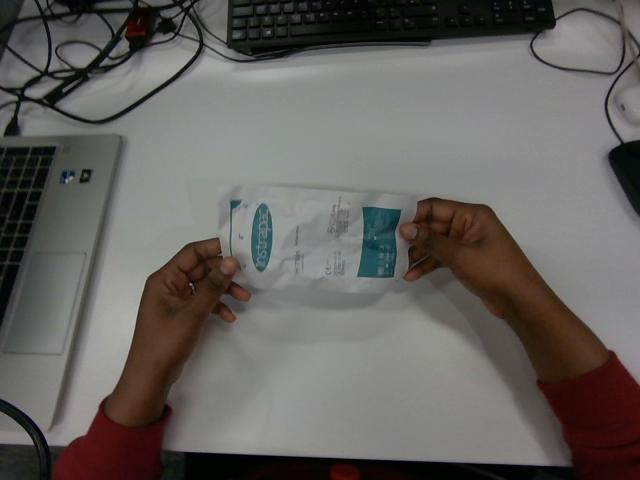gallipot: (218, 185, 417, 292)
